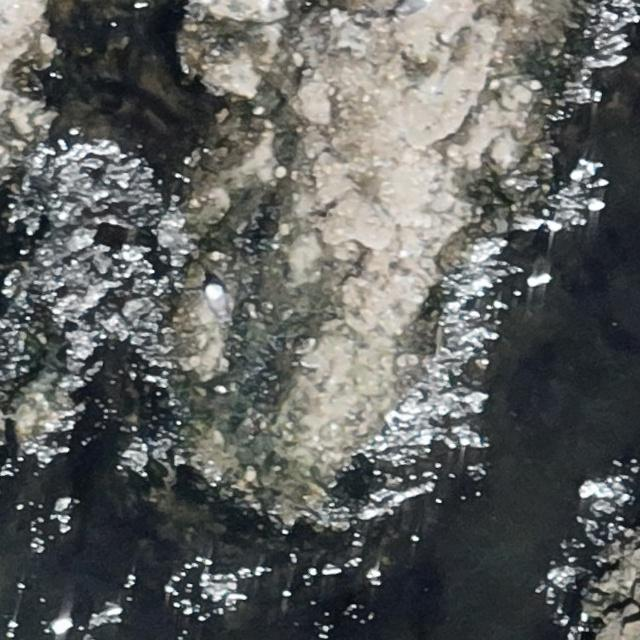umineko: (206, 284, 227, 318), (398, 0, 429, 14)
